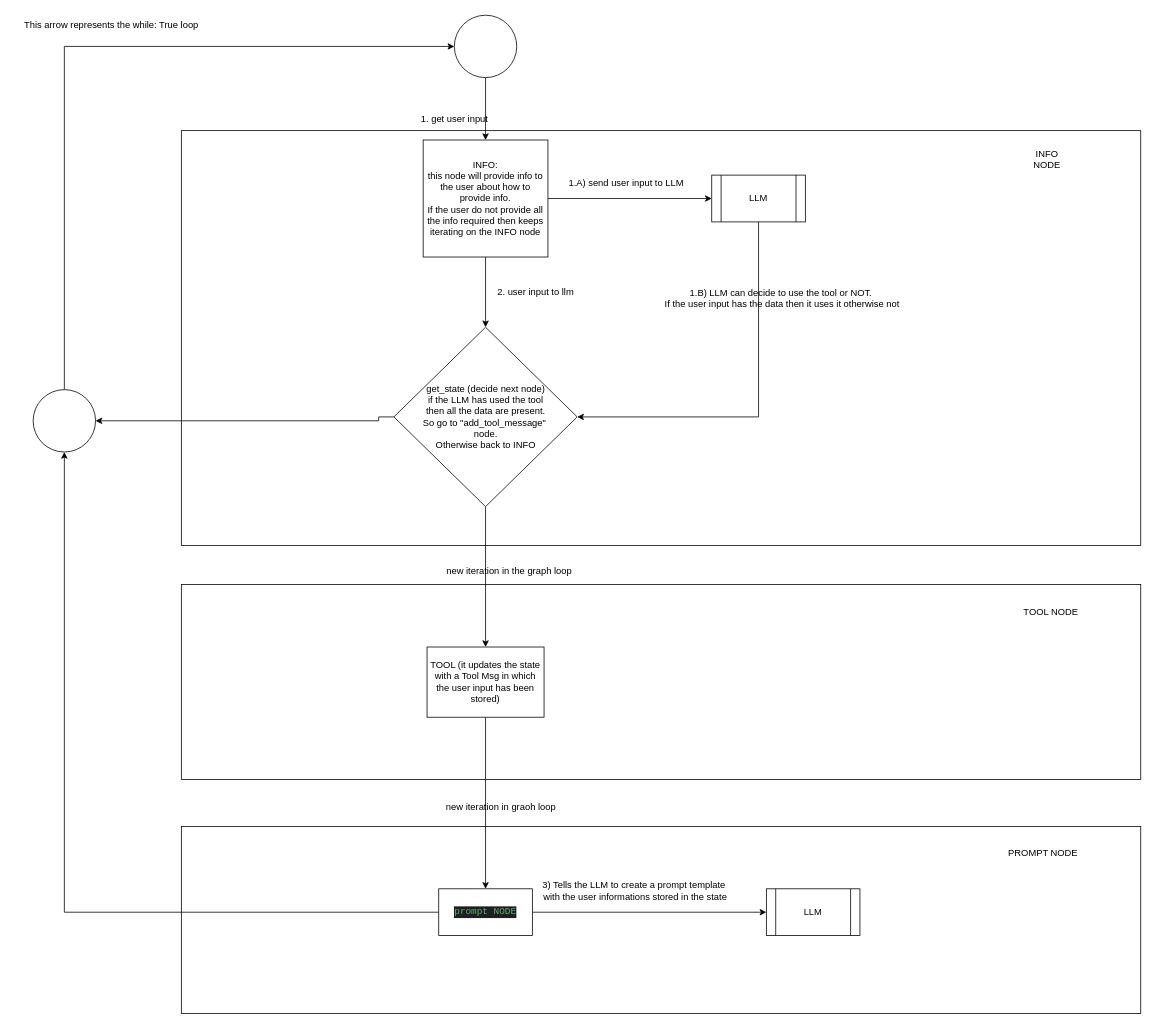
Image size: 1154x1027. Some labels were removed from this diagram. The shapes that lost their labels are listed below. From the top down, each one's box as (x1, y1, x2, y2) in pixels, then its label:
(454, 14, 517, 78): Start
(32, 389, 96, 452): END
